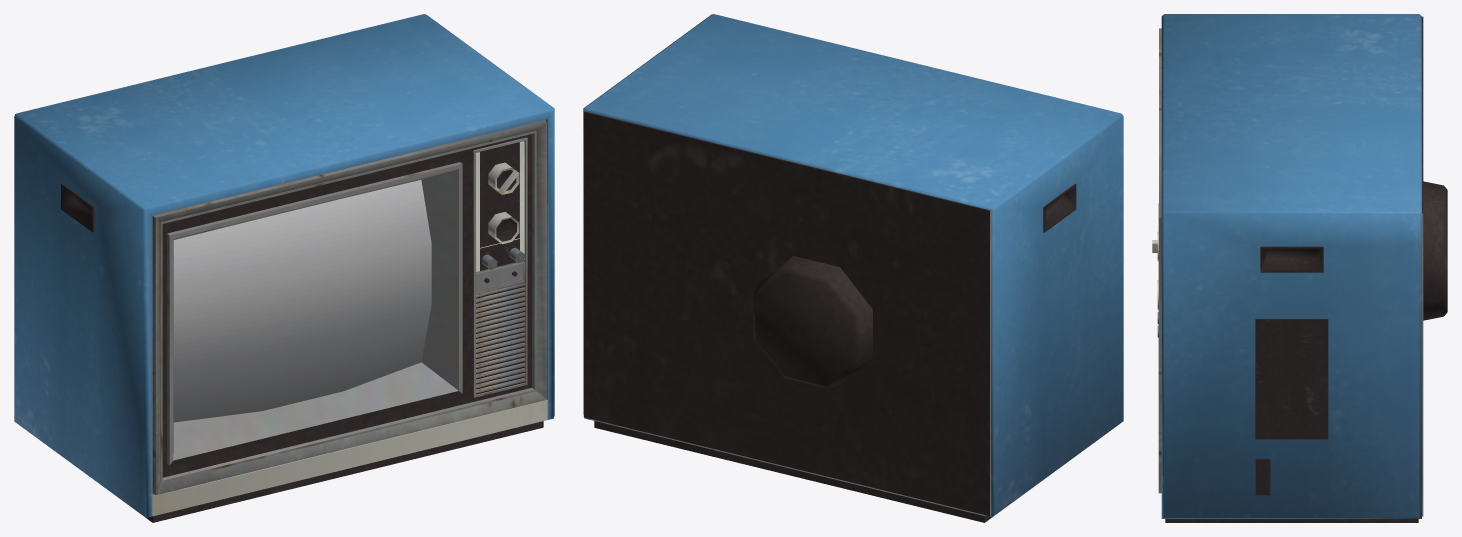
Rendered from oldTV1a.fbx.
3 views of the same model, side by side, from view 1: azimuth 30°, elevation 25°; view 2: azimuth 150°, elevation 25°; view 3: azimuth 270°, elevation 25° (orthographic).
Parts seen in each view (by area): view 1: oldTV1a; view 2: oldTV1a; view 3: oldTV1a.
Part boxes in pixels (x1=…): oldTV1a: x1=14, y1=14, x2=554, y2=522; oldTV1a: x1=583, y1=14, x2=1123, y2=522; oldTV1a: x1=1152, y1=14, x2=1447, y2=522.
Size of the model in its own units: 74.81 by 54.83 by 46.51.
